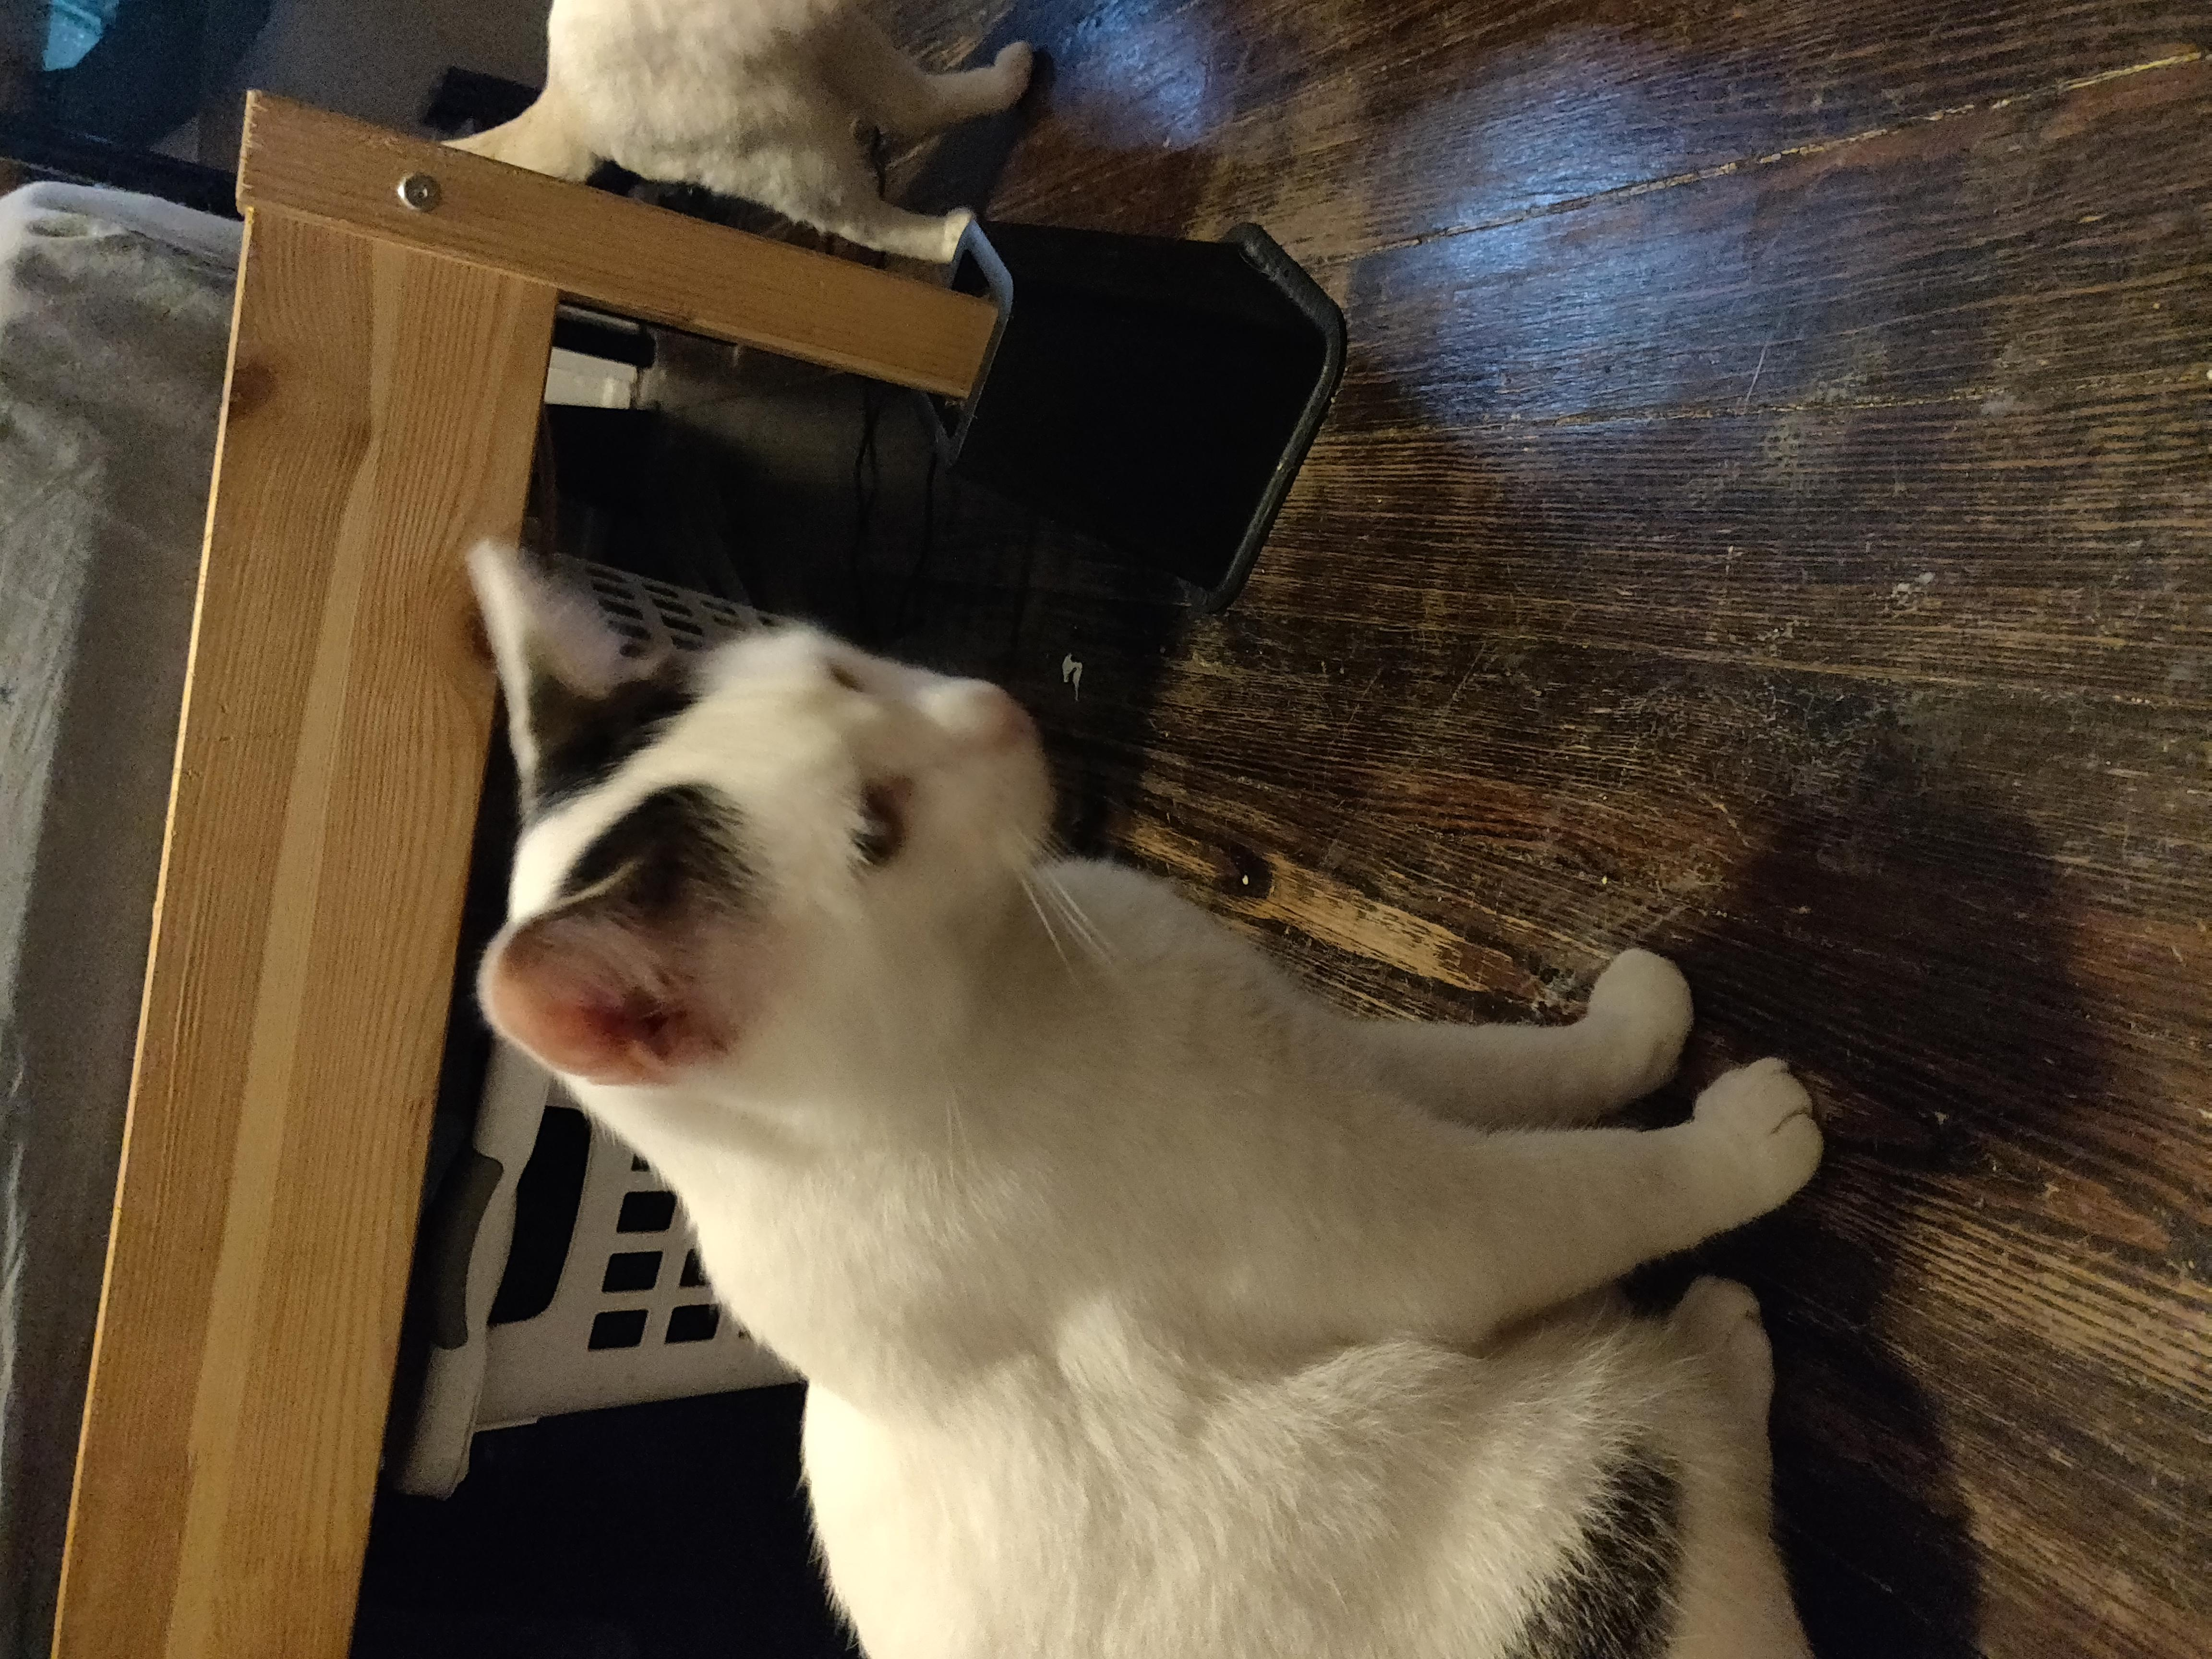cat: (462, 526, 1819, 1652)
